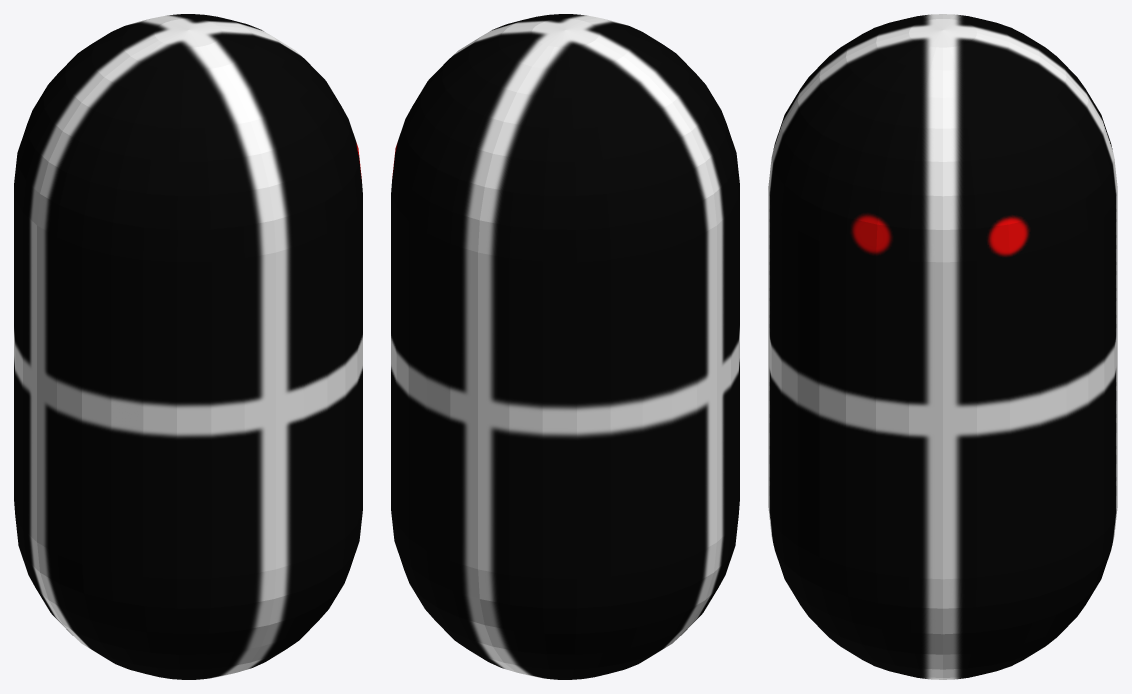
Rendered from TestNinja.dae.
The picture shows the model from 3 angles, left to right: view 1: azimuth 30°, elevation 25°; view 2: azimuth 150°, elevation 25°; view 3: azimuth 270°, elevation 25°; orthographic projection.
Parts seen in each view (by area): view 1: Sphere; view 2: Sphere; view 3: Sphere.
Part boxes in pixels (x1=…): Sphere: x1=14, y1=14, x2=362, y2=679; Sphere: x1=391, y1=14, x2=739, y2=679; Sphere: x1=768, y1=14, x2=1117, y2=679.
Size of the model in its own units: 2 by 2 by 4.
1 material, 1 textured.
